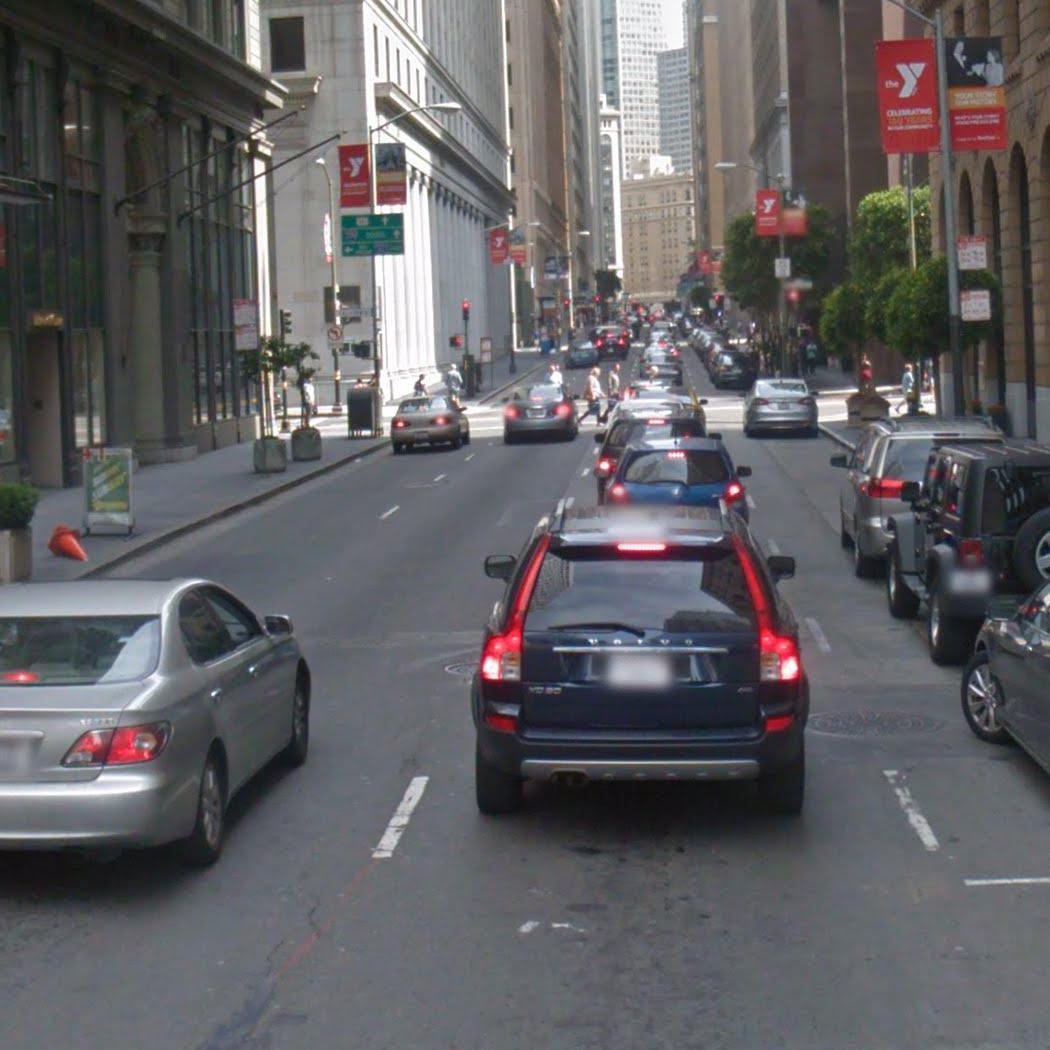No Parking: (959, 287, 994, 323), (232, 324, 260, 353)
